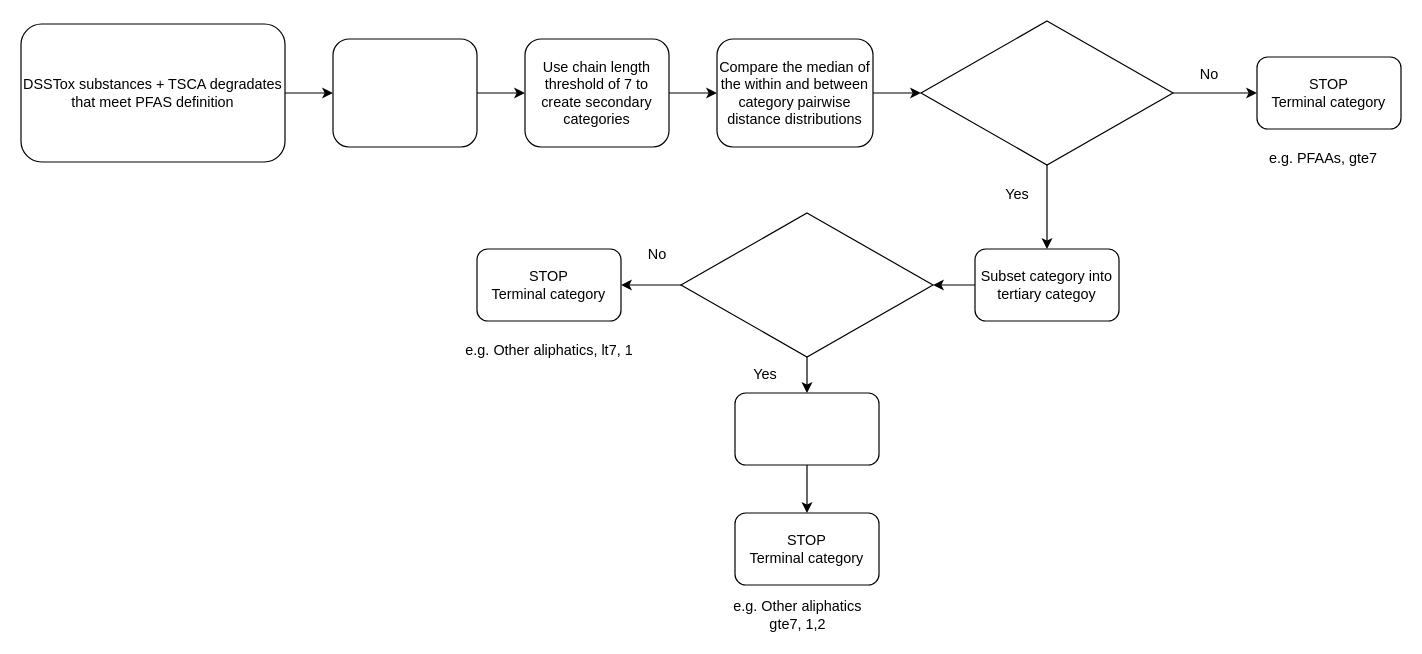
This 1422x654 diagram has some shape labels left out. The shapes that lost their labels are listed below. From the top down, each one's centre as x and y in pixels, then its label:
point (404, 92): Profile to assign OECD primary categories
point (1046, 92): Does secondary category exceed threshold?
point (806, 284): Does tertiary category exceed threshold?
point (806, 428): Subset category into quaternary category
